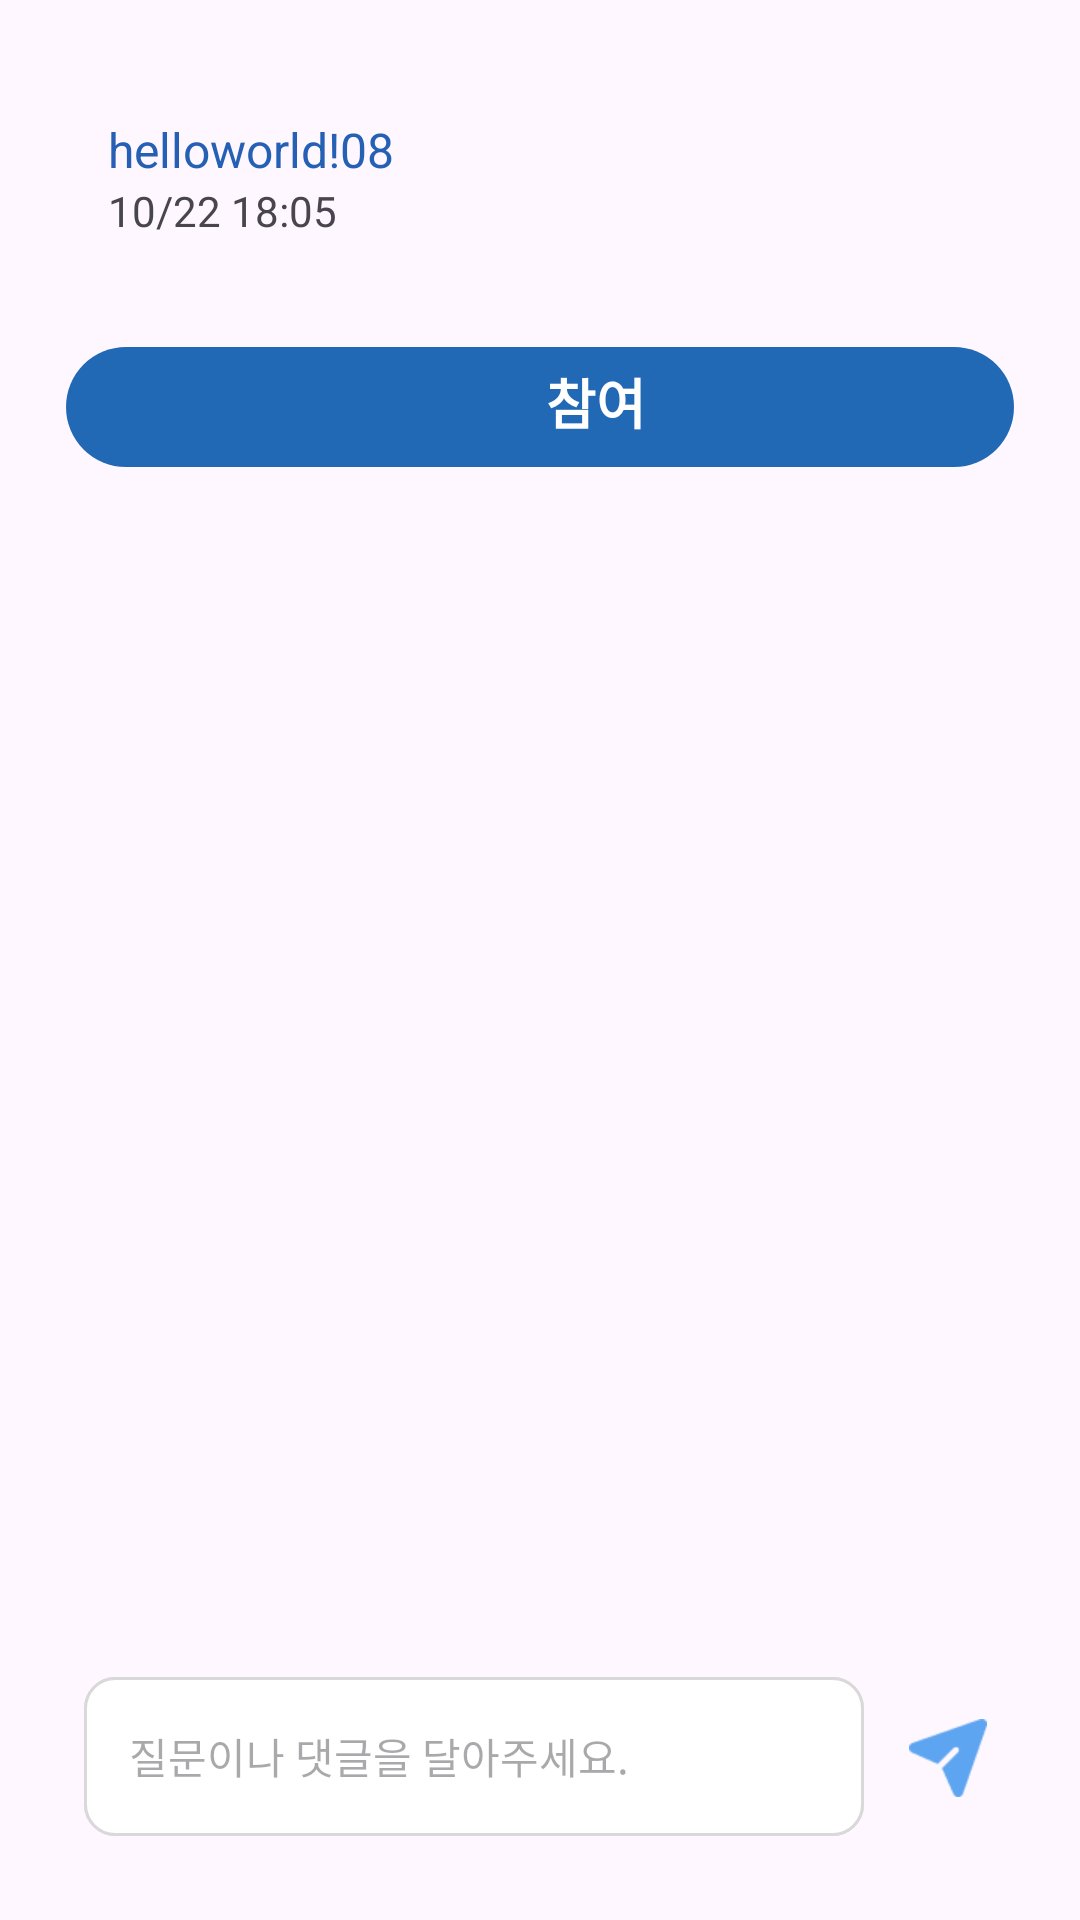

Screen size 1080w x 1920h. Icon name, then its center in pixels as [x,y]:
post comment: [948,1758]
